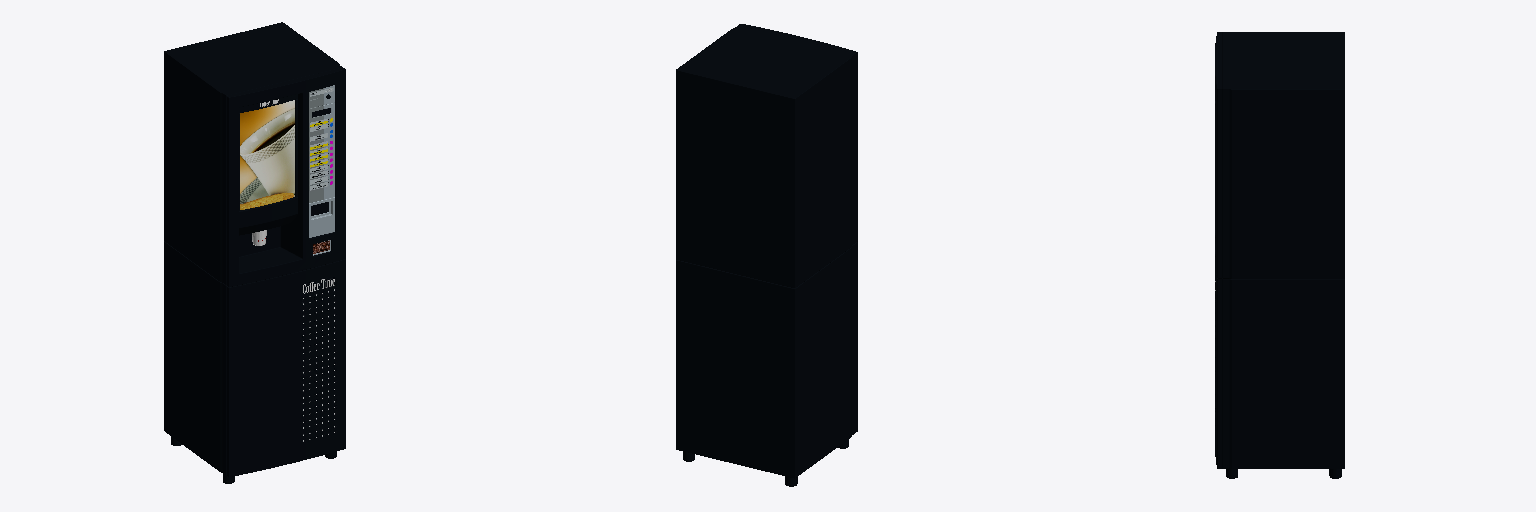
3 views of the same model, side by side, from view 1: azimuth 30°, elevation 25°; view 2: azimuth 150°, elevation 25°; view 3: azimuth 270°, elevation 25° (orthographic).
Parts seen in each view (by area): view 1: archmodels87_026_001, archmodels87_026_002, archmodels87_026_004; view 2: archmodels87_026_001; view 3: archmodels87_026_001.
Boxes of the visible parts, <box> form: archmodels87_026_001: <box>164,22,345,483</box>; archmodels87_026_002: <box>240,100,294,209</box>; archmodels87_026_004: <box>309,85,334,255</box>; archmodels87_026_001: <box>676,24,857,486</box>; archmodels87_026_001: <box>1215,32,1344,478</box>.
Bounding box in the file's own units: 560 × 1752 × 532.
5 materials, 5 textured.